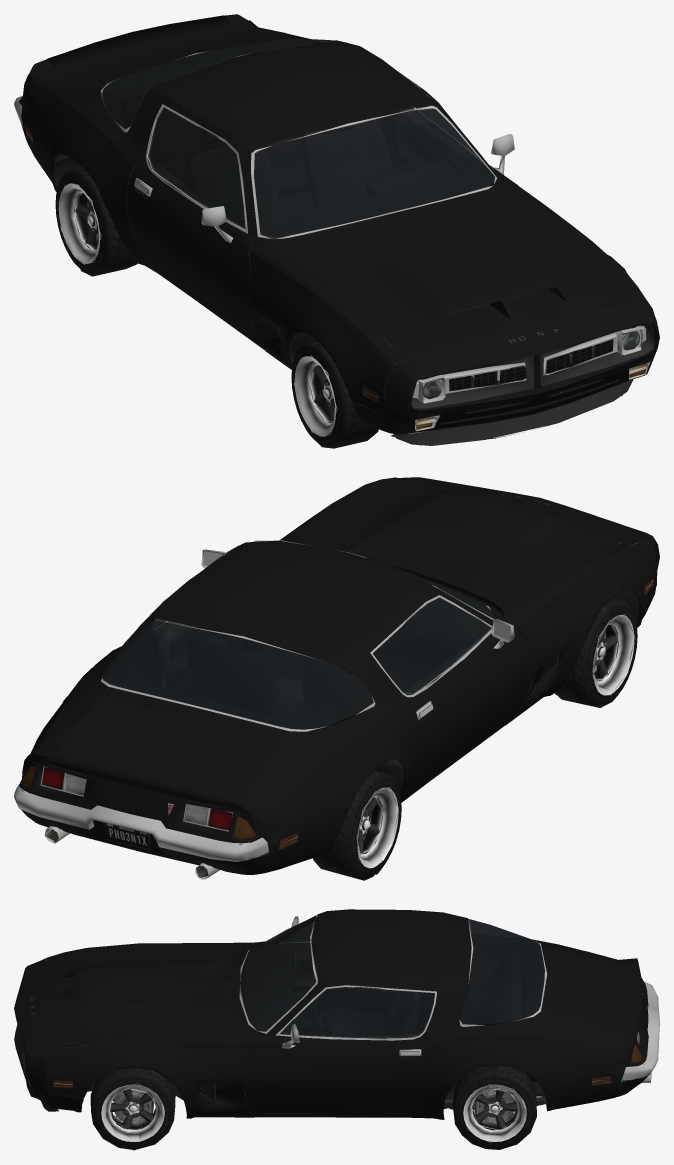
File: phoenix_lod1.glb
The picture shows the model from 3 angles, top to bottom: view 1: azimuth 30°, elevation 25°; view 2: azimuth 150°, elevation 25°; view 3: azimuth 270°, elevation 25°; orthographic projection. The views are drawn at different scales.
Parts seen in each view (by area): view 1: Phoenix445_Body_Phoenix445_Bodymat_0, Phoenix445_Hood_Phoenix445_Bodymat_0, Phoenix445_Interior_UCB_Interiors_2_0, Phoenix445_Windshield_UCB_Lights_and_Glass_Transperent_0, Phoenix445_Bottom_UCB_BOTTOM_0, Phoenix445_Glass_Passenger_UCB_Lights_and_Glass_Transperent_, Phoenix445_Trunkdoor_Phoenix445_Bodymat_0, wheel_FR, wheel_RR, Phoenix445_Glass_rear_UCB_Lights_and_Glass_Transperent_0; view 2: Phoenix445_Body_Phoenix445_Bodymat_0, Phoenix445_Interior_UCB_Interiors_2_0, Phoenix445_Hood_Phoenix445_Bodymat_0, Phoenix445_Glass_rear_UCB_Lights_and_Glass_Transperent_0, Phoenix445_Trunkdoor_Phoenix445_Bodymat_0, Phoenix445_Glass_Passenger_UCB_Lights_and_Glass_Transperent_, wheel_RR, Phoenix445_Bottom_UCB_BOTTOM_0, wheel_FR, Phoenix445_Bumper_rear_UCB_BOTTOM_0, Phoenix445_Taillights_Glass_UCB_Lights_and_Glass_Transperent, Phoenix455_np_Numberplates_Misk_U_0 (+3 smaller); view 3: Phoenix445_Body_Phoenix445_Bodymat_0, Phoenix445_Interior_UCB_Interiors_2_0, Phoenix445_Hood_Phoenix445_Bodymat_0, Phoenix445_Glass_rear_UCB_Lights_and_Glass_Transperent_0, Phoenix445_Glass_Driver_UCB_Lights_and_Glass_Transperent_0, wheel_RL, Phoenix445_Trunkdoor_Phoenix445_Bodymat_0, wheel_FL, Phoenix445_Windshield_UCB_Lights_and_Glass_Transperent_0, Phoenix445_Bottom_UCB_BOTTOM_0, Phoenix445_Bumper_rear_UCB_BOTTOM_0.
Part boxes in pixels (x1,y1,x2,y2): Phoenix445_Body_Phoenix445_Bodymat_0: (19,14,659,434); Phoenix445_Hood_Phoenix445_Bodymat_0: (274,184,635,360); Phoenix445_Interior_UCB_Interiors_2_0: (103,39,495,341); Phoenix445_Windshield_UCB_Lights_and_Glass_Transperent_0: (254,108,495,236); Phoenix445_Bottom_UCB_BOTTOM_0: (20,17,654,445); Phoenix445_Glass_Passenger_UCB_Lights_and_Glass_Transperent_: (148,107,245,229); Phoenix445_Trunkdoor_Phoenix445_Bodymat_0: (46,15,278,81); wheel_FR: (291,339,378,448); wheel_RR: (55,167,137,276); Phoenix445_Glass_rear_UCB_Lights_and_Glass_Transperent_0: (102,38,334,128); Phoenix445_Body_Phoenix445_Bodymat_0: (19,477,659,874); Phoenix445_Interior_UCB_Interiors_2_0: (103,583,494,785); Phoenix445_Hood_Phoenix445_Bodymat_0: (291,480,635,611); Phoenix445_Glass_rear_UCB_Lights_and_Glass_Transperent_0: (102,620,373,729); Phoenix445_Trunkdoor_Phoenix445_Bodymat_0: (46,696,279,807); Phoenix445_Glass_Passenger_UCB_Lights_and_Glass_Transperent_: (372,597,491,694); wheel_RR: (313,770,401,880); Phoenix445_Bottom_UCB_BOTTOM_0: (21,486,653,879); wheel_FR: (554,598,637,707); Phoenix445_Bumper_rear_UCB_BOTTOM_0: (14,785,269,861); Phoenix445_Taillights_Glass_UCB_Lights_and_Glass_Transperent: (22,766,297,849); Phoenix455_np_Numberplates_Misk_U_0: (104,822,150,850); Phoenix445_Body_Phoenix445_Bodymat_0: (14,909,648,1119); Phoenix445_Interior_UCB_Interiors_2_0: (240,916,544,1104); Phoenix445_Hood_Phoenix445_Bodymat_0: (42,944,249,1047); Phoenix445_Glass_rear_UCB_Lights_and_Glass_Transperent_0: (460,919,544,1024); Phoenix445_Glass_Driver_UCB_Lights_and_Glass_Transperent_0: (279,987,434,1038); wheel_RL: (452,1066,536,1149); Phoenix445_Trunkdoor_Phoenix445_Bodymat_0: (551,947,642,1030); wheel_FL: (90,1068,175,1150); Phoenix445_Windshield_UCB_Lights_and_Glass_Transperent_0: (240,916,316,1031); Phoenix445_Bottom_UCB_BOTTOM_0: (21,914,651,1117); Phoenix445_Bumper_rear_UCB_BOTTOM_0: (621,982,659,1081).
Size of the model in its own units: 2.13 by 1.36 by 5.
Materials: 8 (7 with a texture image).
